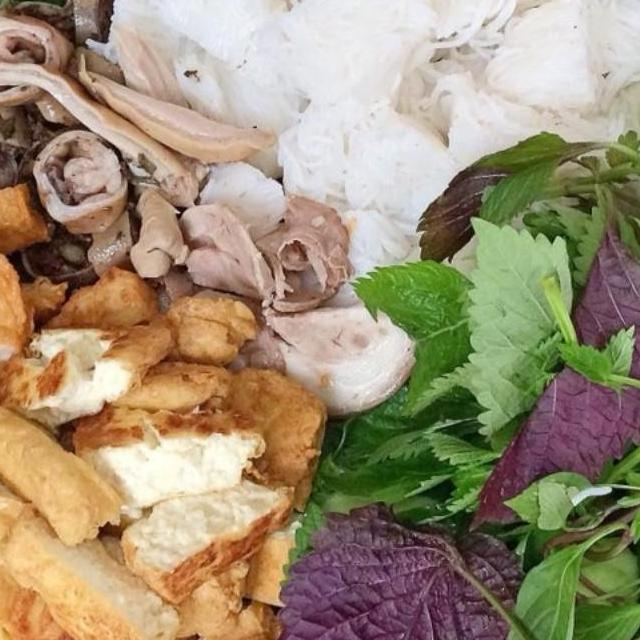bun: (97, 0, 640, 329)
bun dau: (0, 0, 640, 640)
cha com: (0, 110, 75, 413)
dau hu: (0, 389, 187, 640)
thit heo: (247, 284, 436, 434)
